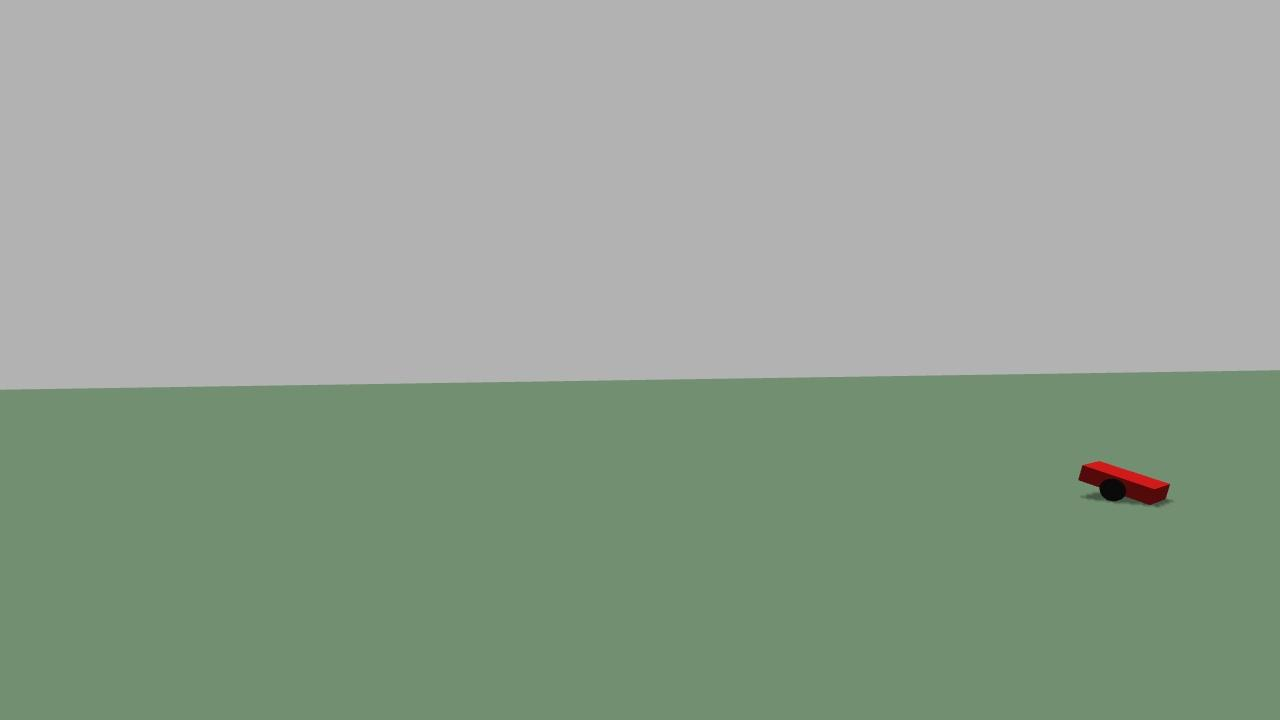ground_vehicle: (1076, 443, 1194, 529)
